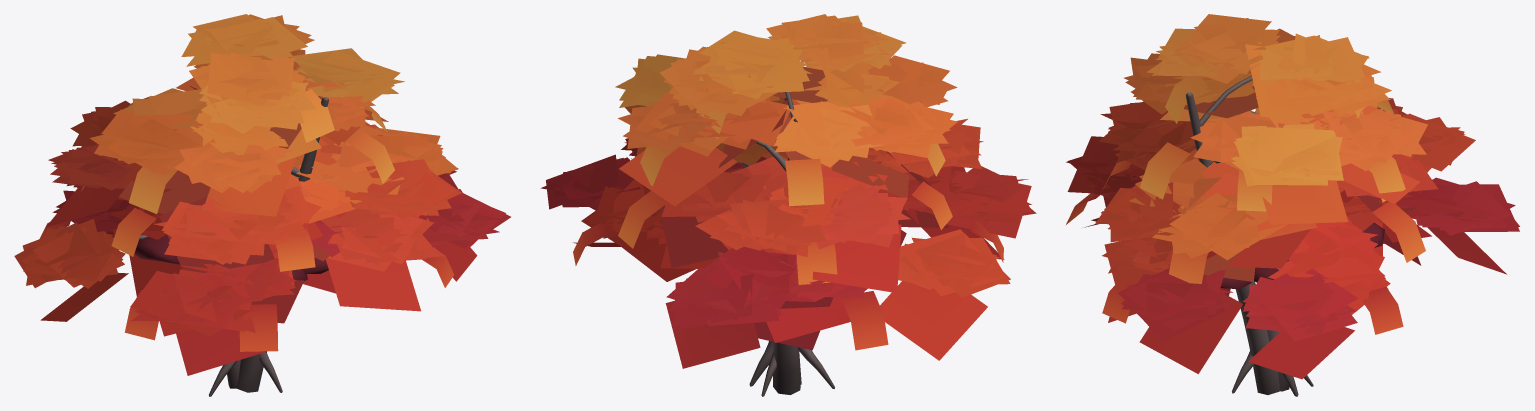
Rendered from tree-village-momiji-v1.glb.
The picture shows the model from 3 angles, left to right: view 1: azimuth 30°, elevation 25°; view 2: azimuth 150°, elevation 25°; view 3: azimuth 270°, elevation 25°; orthographic projection. The views are drawn at different scales.
Parts seen in each view (by area): view 1: cards_momiji, bark, foliage; view 2: cards_momiji, bark; view 3: cards_momiji, bark, foliage.
Boxes of the visible parts, x1,y1,x2,y2 form: cards_momiji: (14, 14, 510, 375); bark: (139, 97, 328, 396); foliage: (134, 234, 328, 281); cards_momiji: (540, 14, 1036, 368); bark: (737, 92, 834, 396); cards_momiji: (1066, 14, 1519, 379); bark: (1185, 75, 1313, 396); foliage: (1220, 222, 1384, 289).
Bounding box in the file's own units: 6.16 × 4.57 × 5.36.
